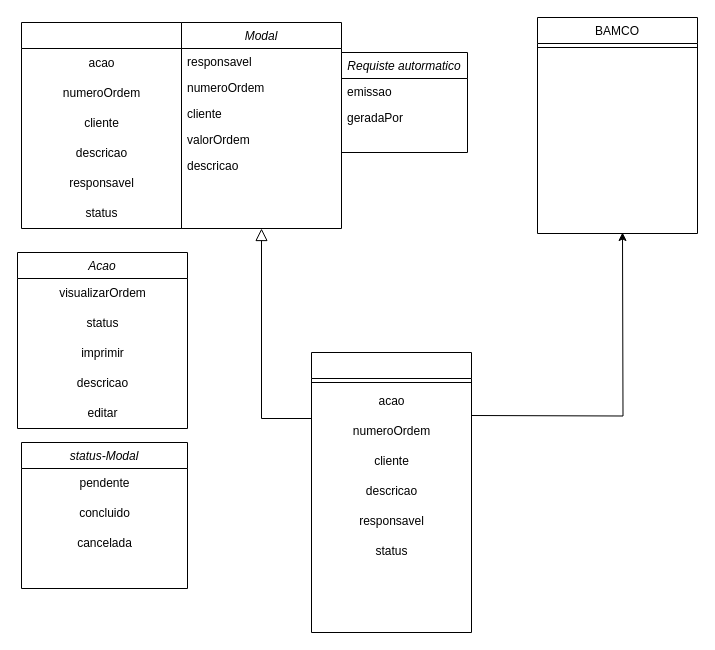
Some shapes in this 715 by 650 pixel diagram are drawn without their labels. Here are the shapes that lost their labels. From the top down, the box of each, then its label:
(20, 22, 182, 228): PageList
(310, 352, 472, 632): API
